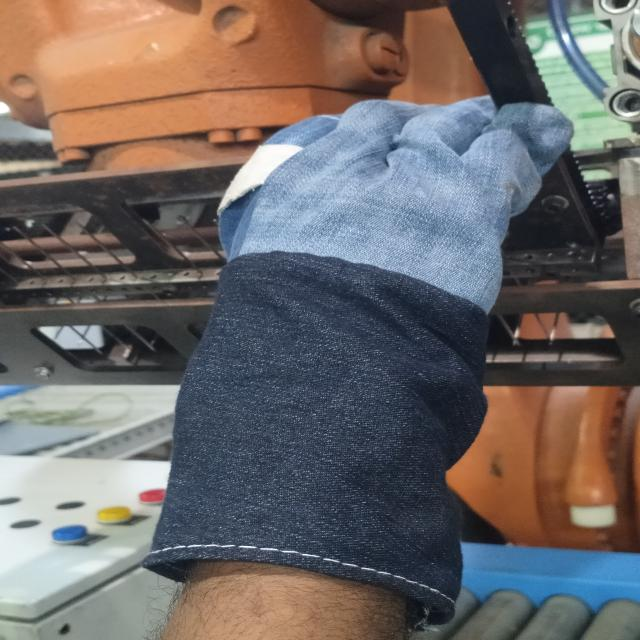Gloves-Detection: (148, 95, 582, 589)
